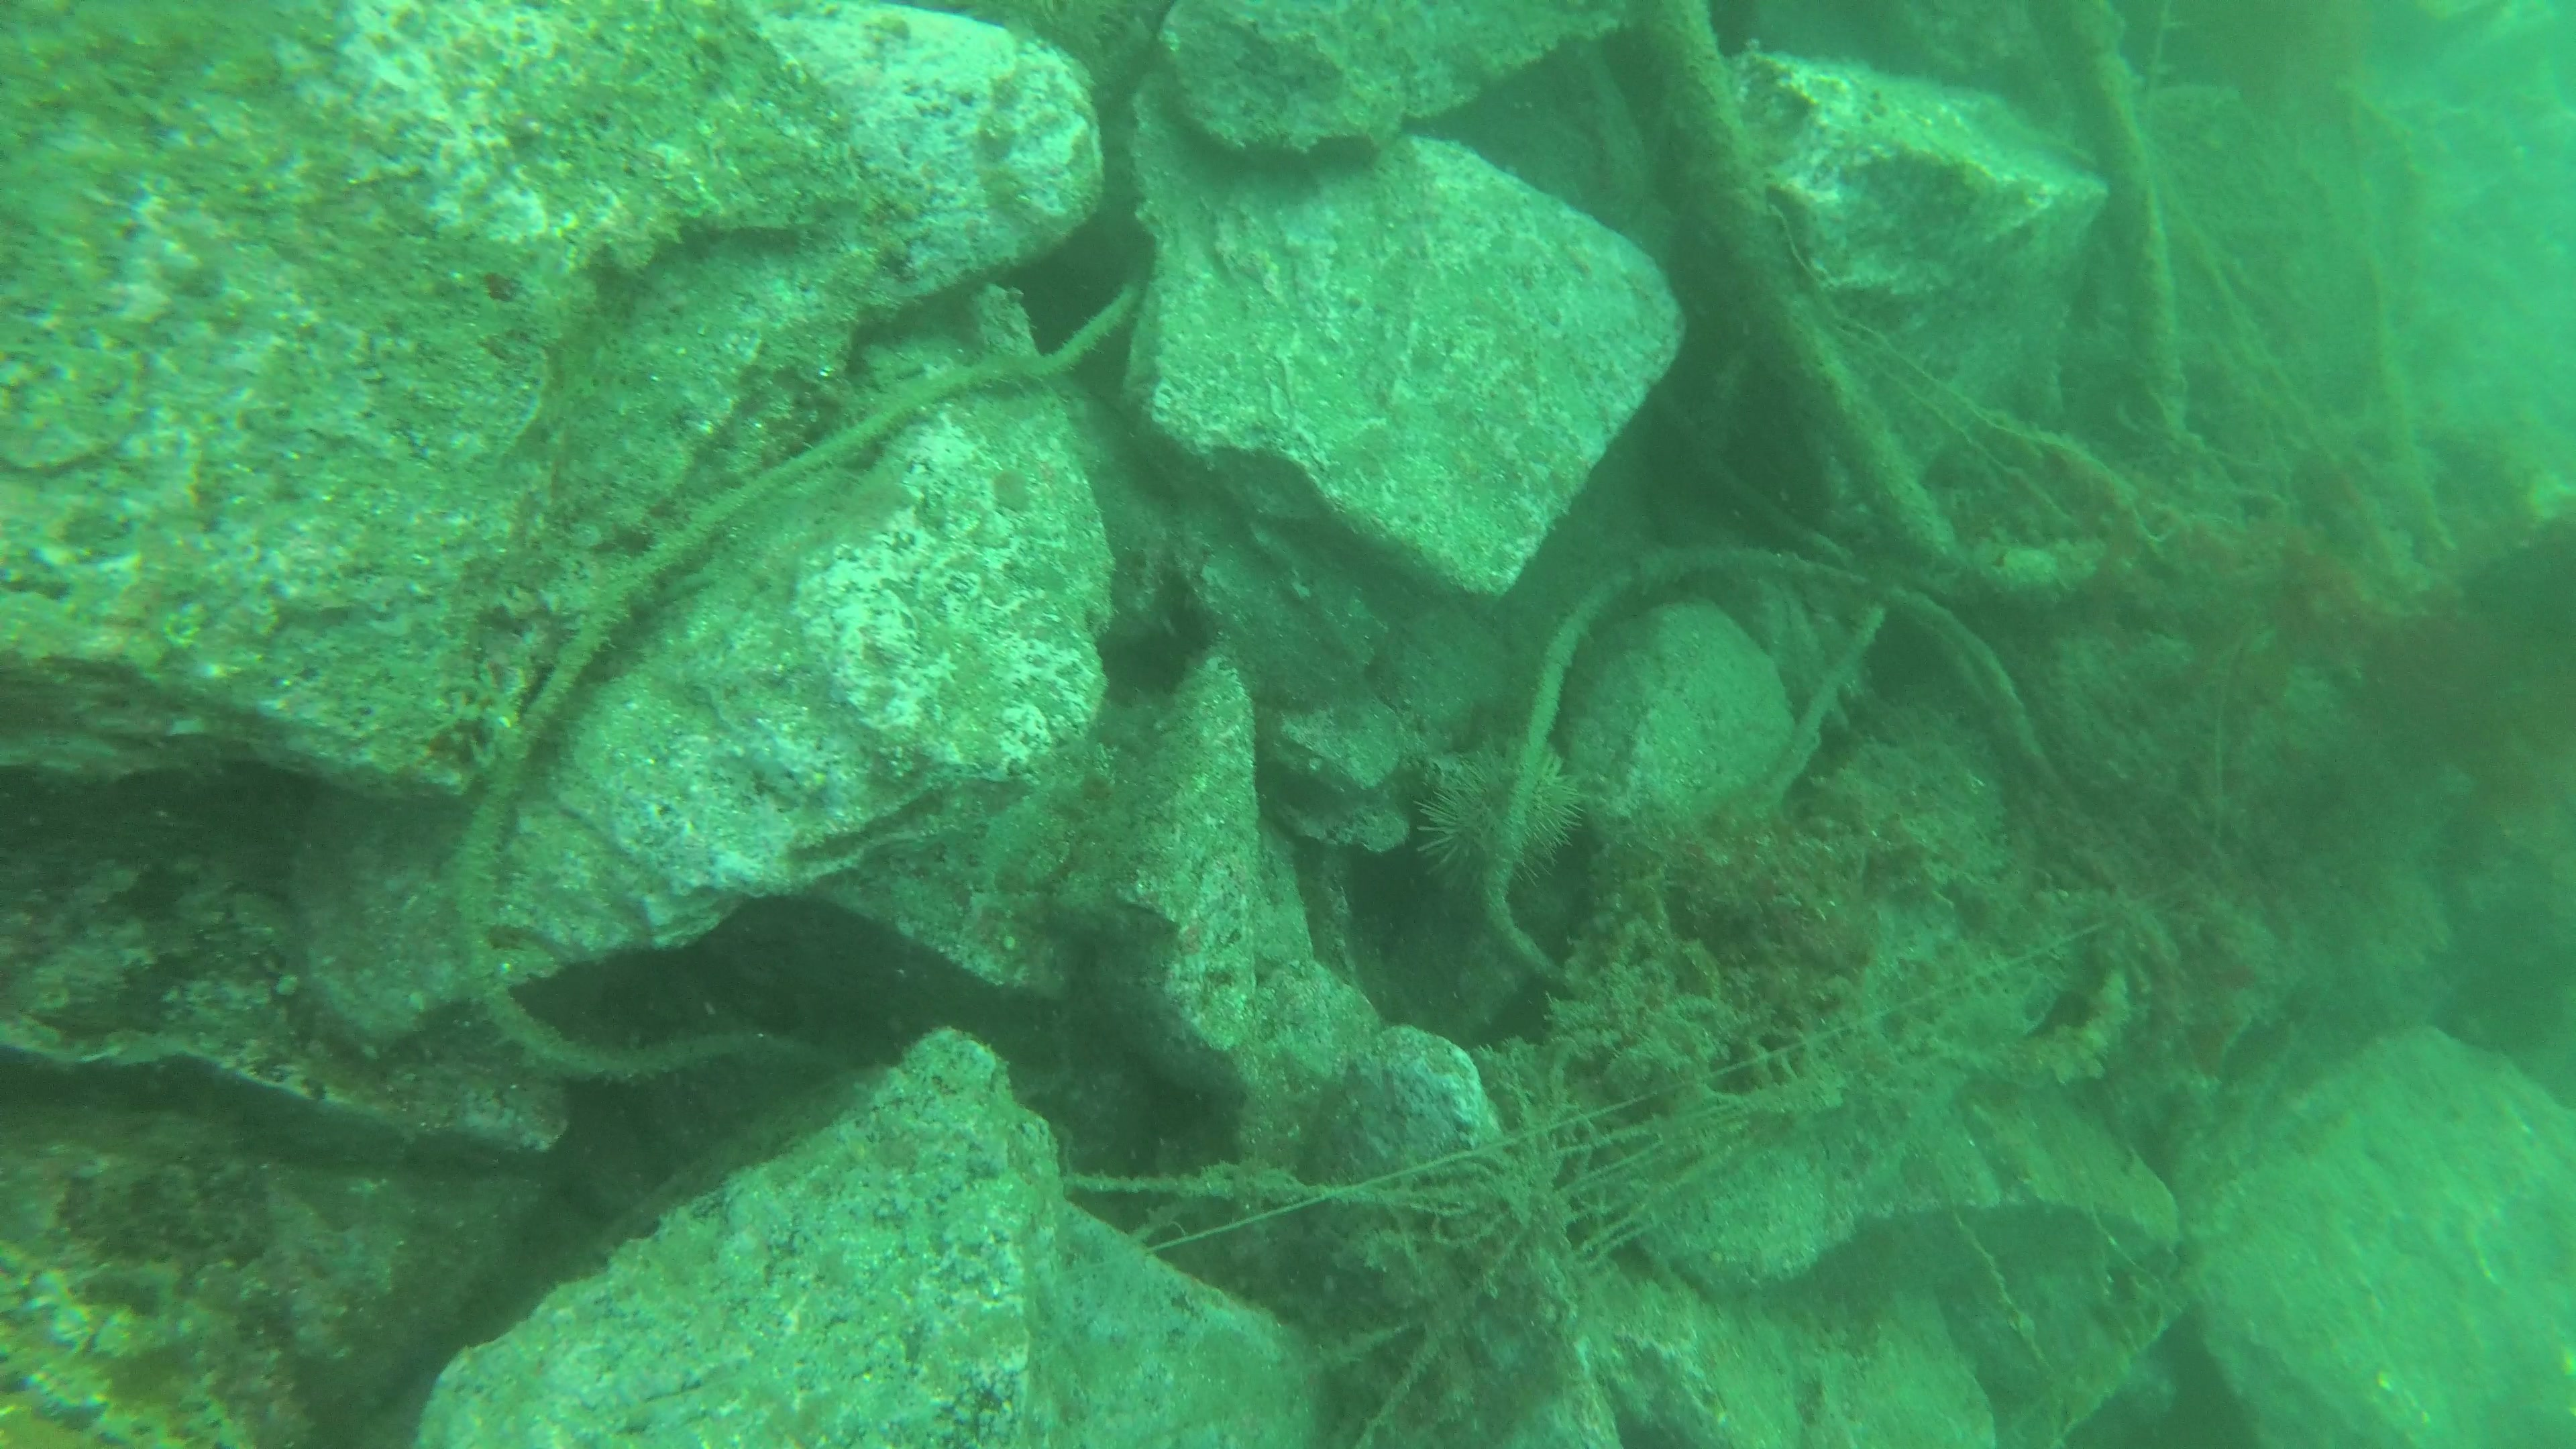echinus: (1398, 731, 1596, 897)
